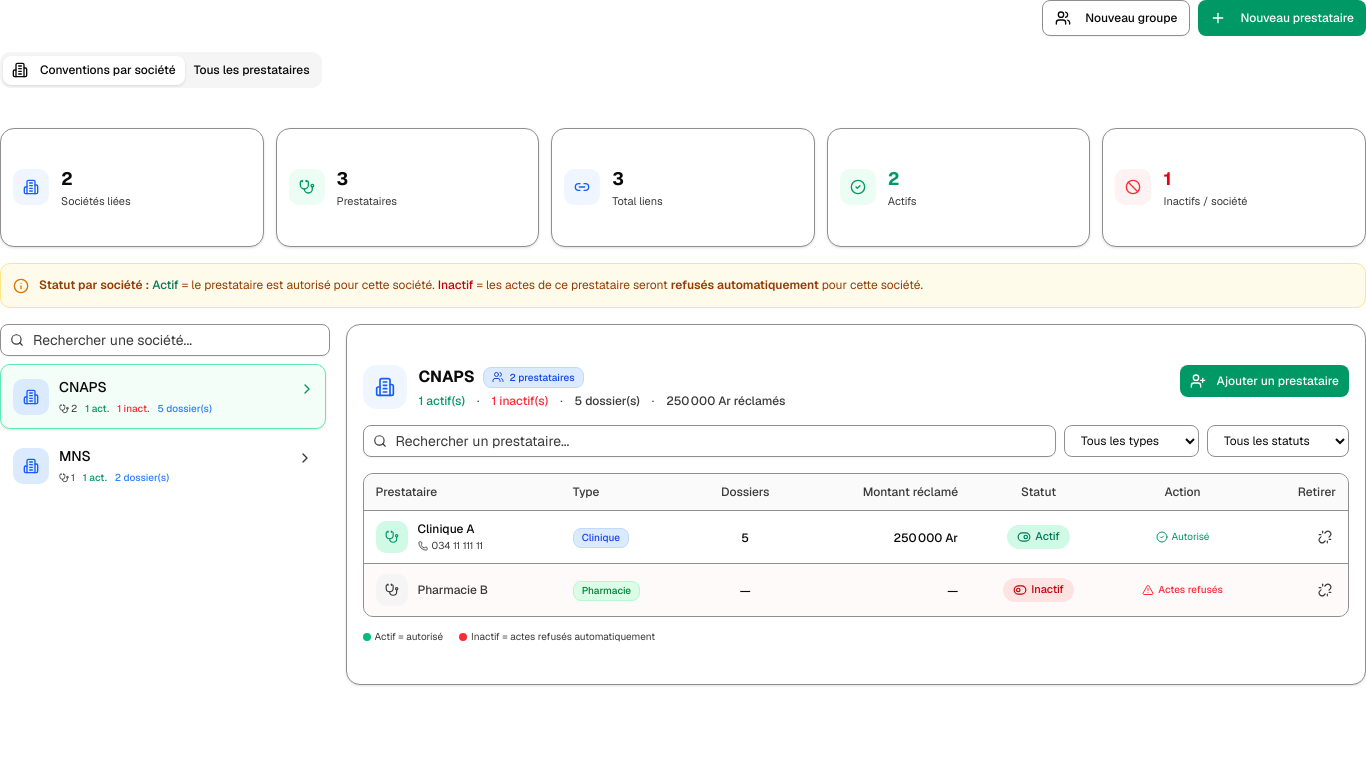
PrestatairesView — caractérisation › crée un prestataire via le dialog de création (POST /api/prestataires)
Click the button "Nouveau prestataire".
click(1282, 18)  # box [1198,0,1365,36]
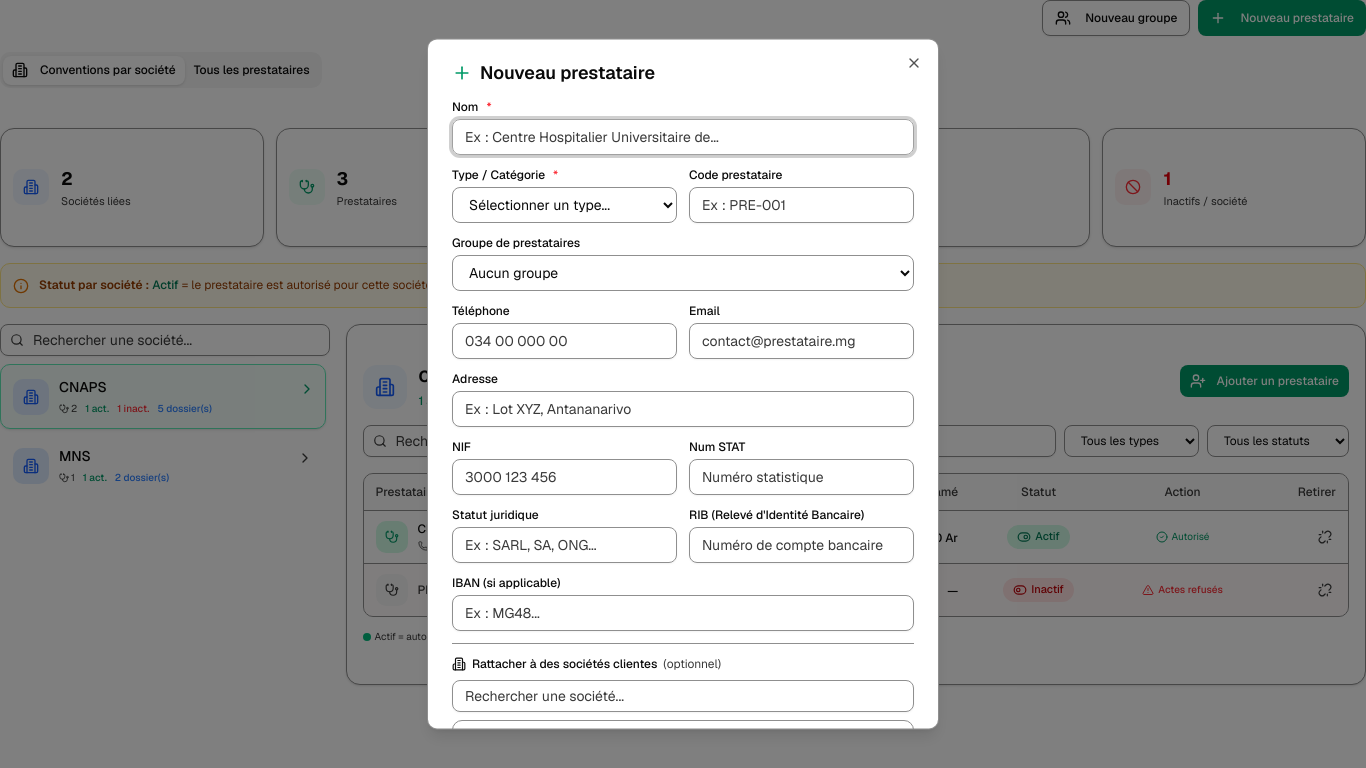
Type "Clinique Test" into the field with placeholder "Ex : Centre Hospitalier Universitaire de...".
click(683, 137); type("Clinique Test")  # box [452,119,914,155]
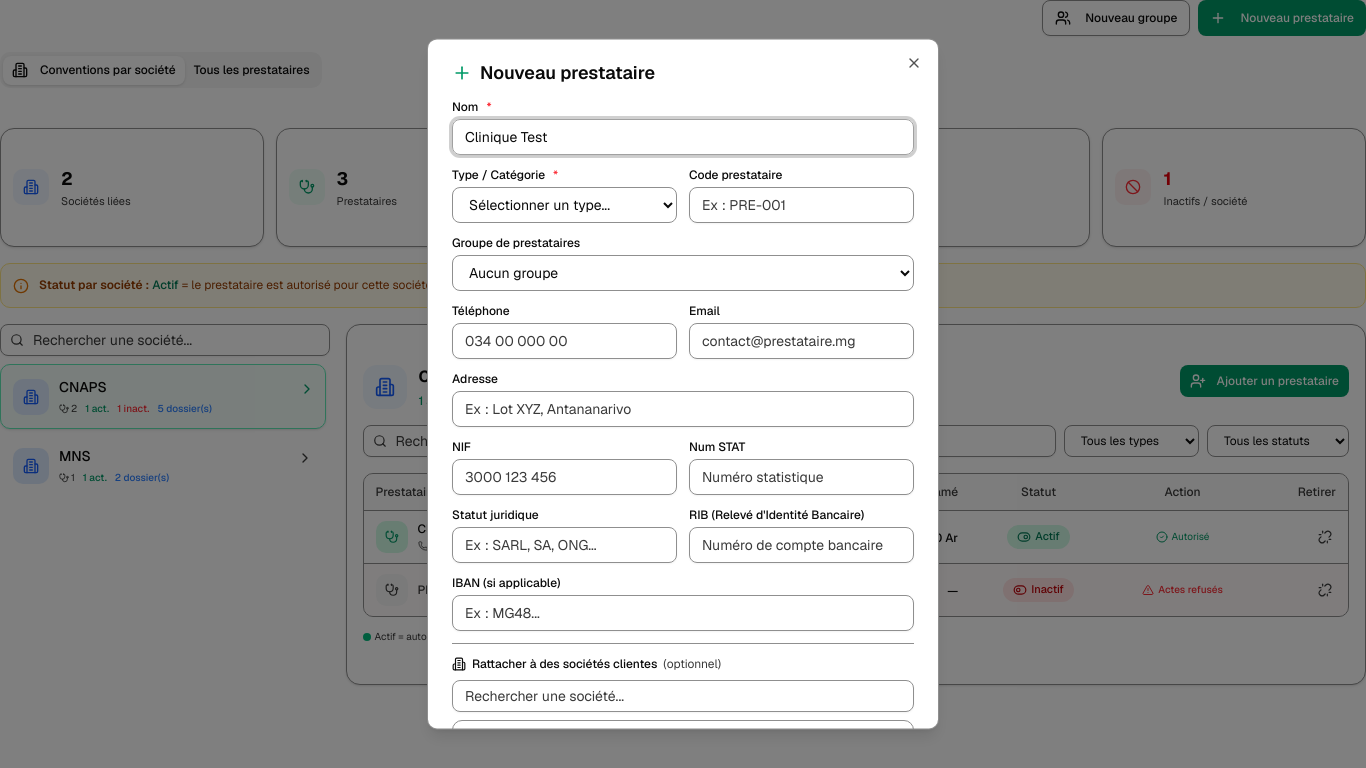
Note: Type obligatoire : 1re combobox du formulaire (le groupe est ajouté après)
Select "Clinique" in the dropdown below "Type / Catégorie" at (564,205), box [452,187,677,223]
(page scrolled)
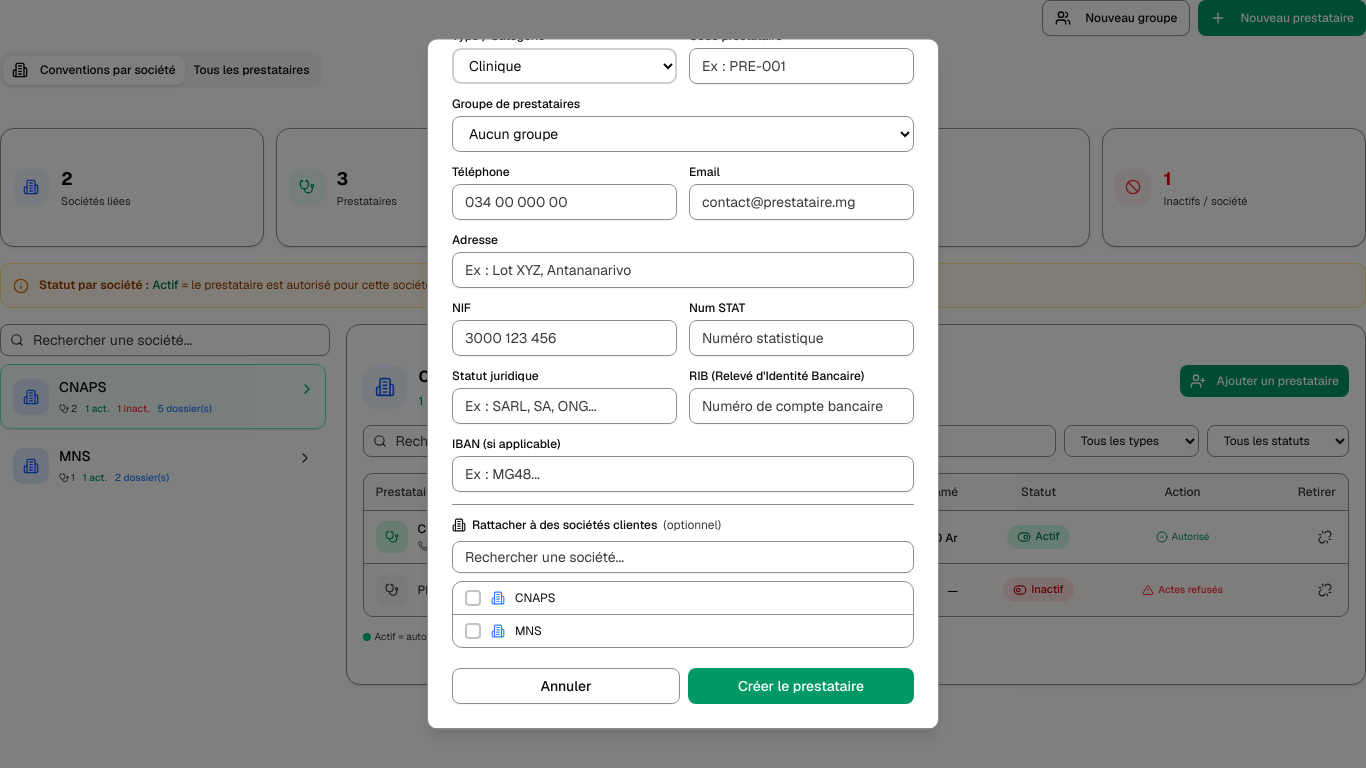
Click the button "Créer le prestataire".
click(801, 686)  # box [688,668,914,704]
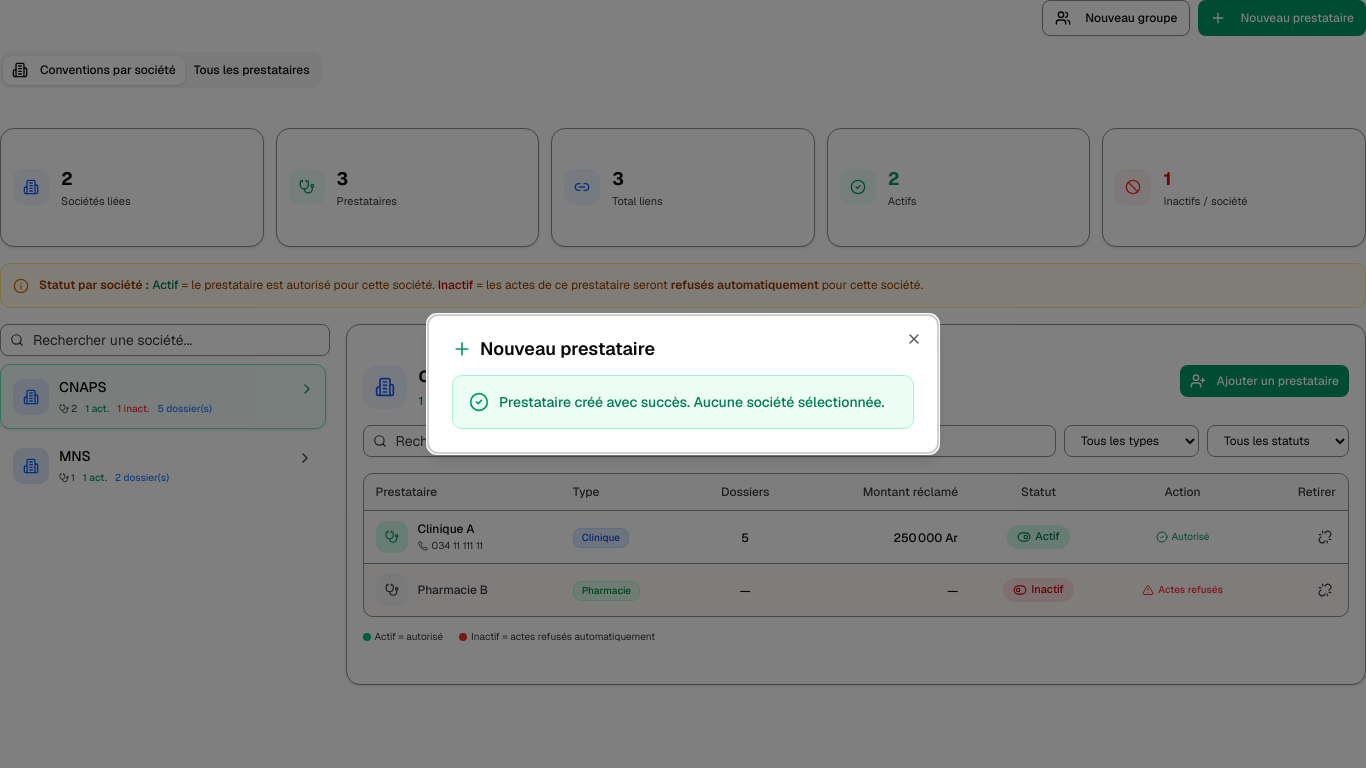
Result: the text "Prestataire créé avec succès. Aucune société sélectionnée." is shown at [499,392,884,412]
